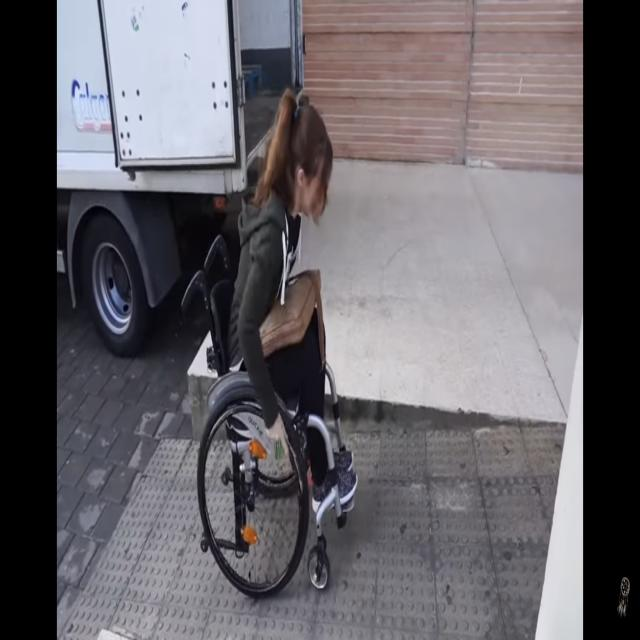wheelchairs: (179, 228, 363, 606)
